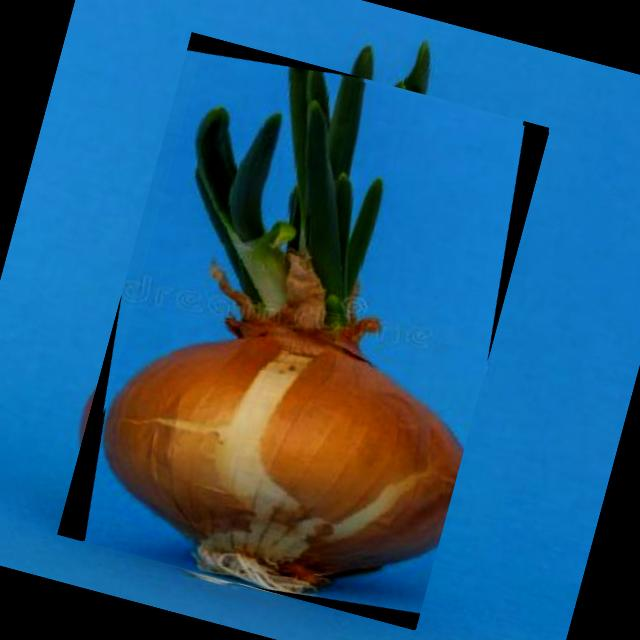sprouting: (98, 69, 460, 594)
